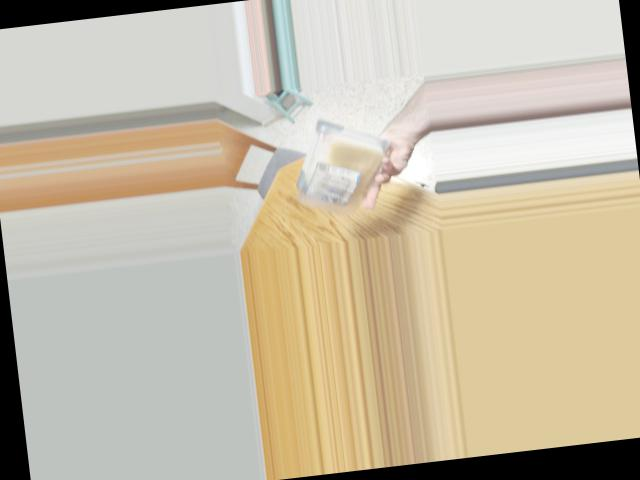cheese: (289, 115, 372, 213)
